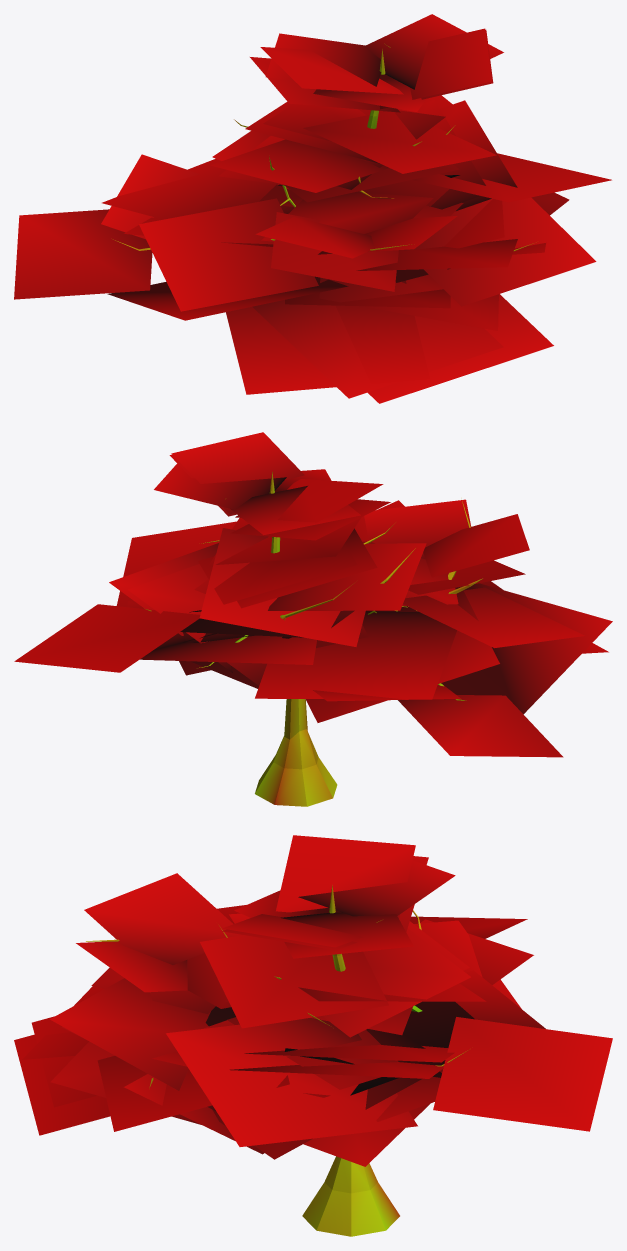
Rendered from large_tree_2.glb.
3 renders of one model, top to bottom at view 1: azimuth 30°, elevation 25°; view 2: azimuth 150°, elevation 25°; view 3: azimuth 270°, elevation 25°, orthographic. The views are drawn at different scales.
Visible parts, largest first — view 1: Tree_2_Leaves, Tree_2_Wood; view 2: Tree_2_Leaves, Tree_2_Wood; view 3: Tree_2_Leaves, Tree_2_Wood.
Part boxes in pixels (left/top/right/bottom): Tree_2_Leaves: left=14, top=14, right=611, bottom=403; Tree_2_Wood: left=113, top=44, right=536, bottom=251; Tree_2_Leaves: left=14, top=432, right=612, bottom=757; Tree_2_Wood: left=145, top=472, right=482, bottom=806; Tree_2_Leaves: left=14, top=835, right=612, bottom=1166; Tree_2_Wood: left=86, top=885, right=469, bottom=1236.
Bounding box in the file's own units: 50.85 × 29.46 × 45.72.
